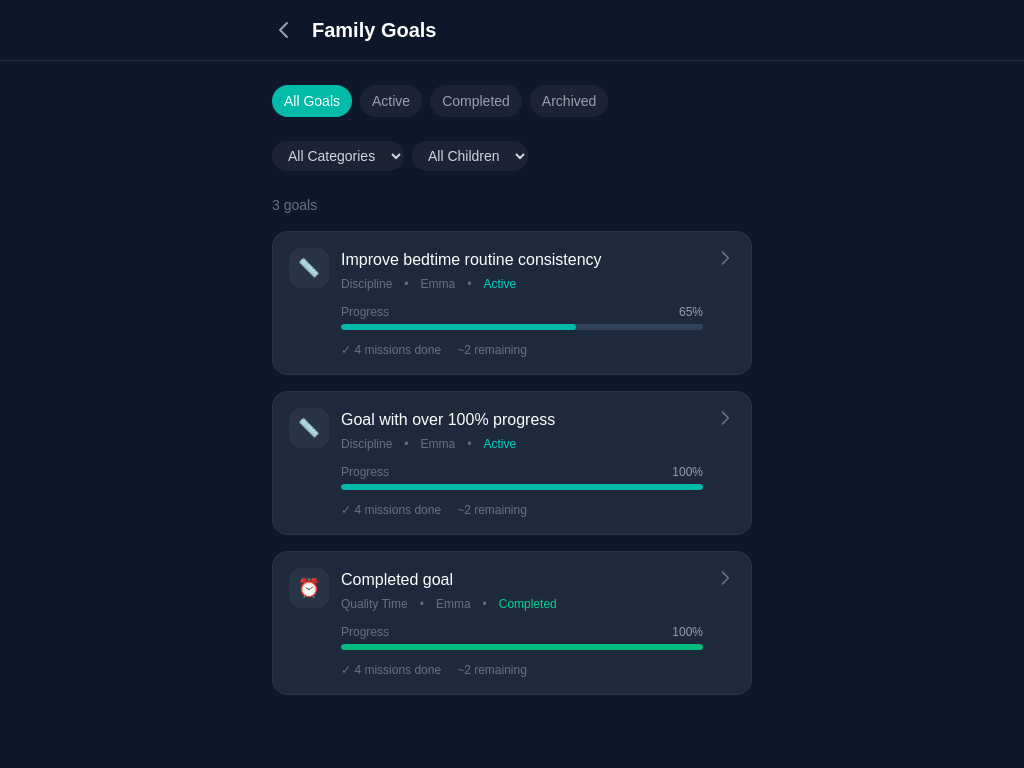
Test: Family Section › GoalsPage - Goals Overview › filtering works › shows filtered count when Active filter is selected
Click on "Active" filter
Step 1. Click the button "Active" → [391, 101], box [360,85,422,117]
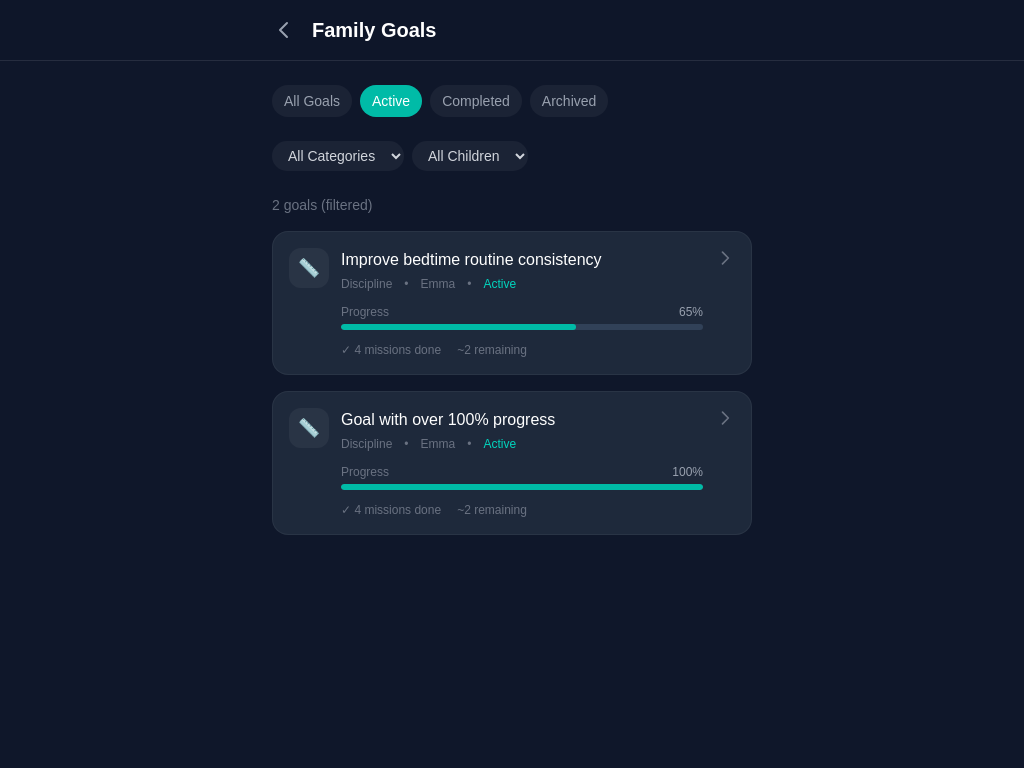
Expected: the text "2 goals (filtered)" is shown, [272,197,372,213]
